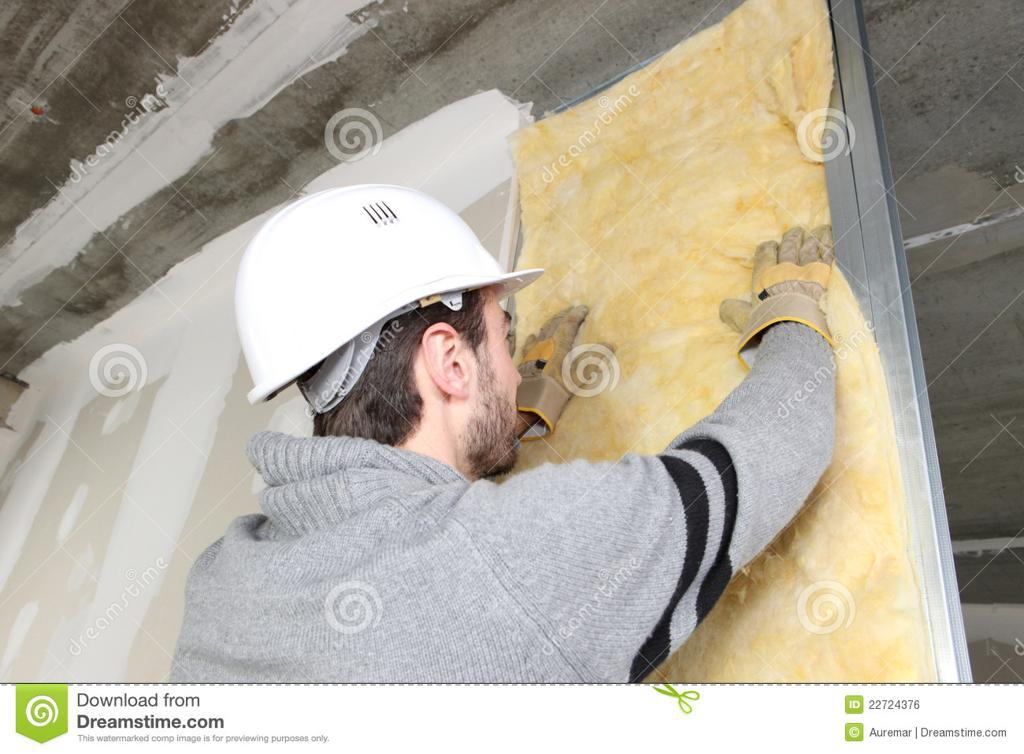face: (397, 233, 527, 459)
